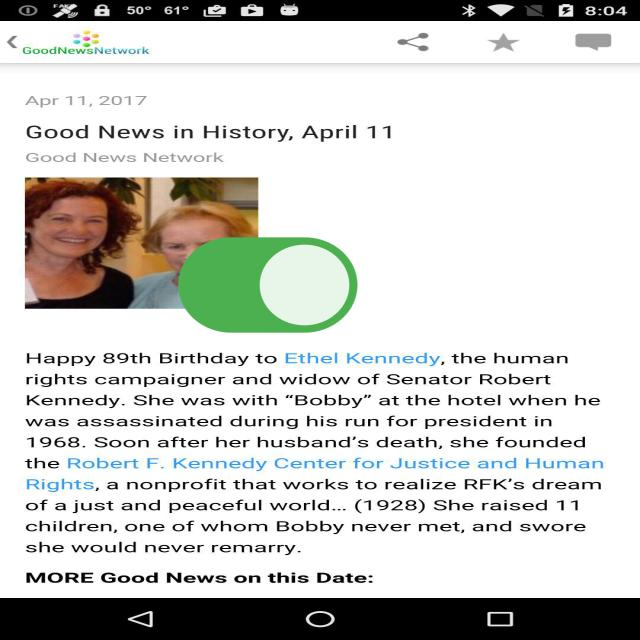social proof: (170, 200, 366, 377)
